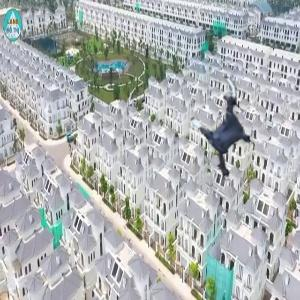drone: (177, 79, 271, 173)
